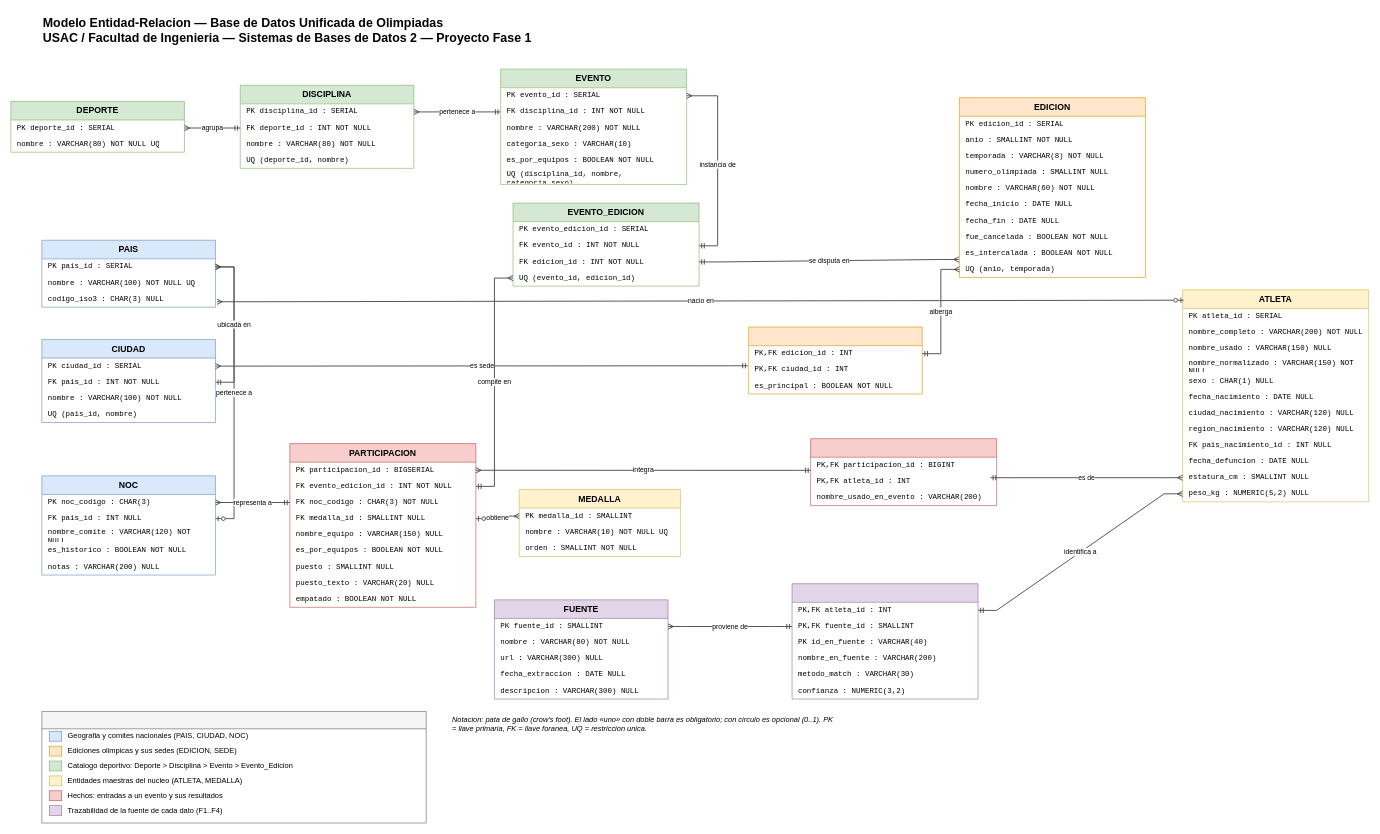
Image size: 1380x834. Some labels were removed from this diagram. Here are the shapes that lost their labels. From the top down, the box of each, then its label:
(748, 326, 922, 394): SEDE
(810, 438, 997, 506): PARTICIPACION_ATLETA
(791, 583, 978, 699): ATLETA_FUENTE
(41, 711, 426, 823): Leyenda
